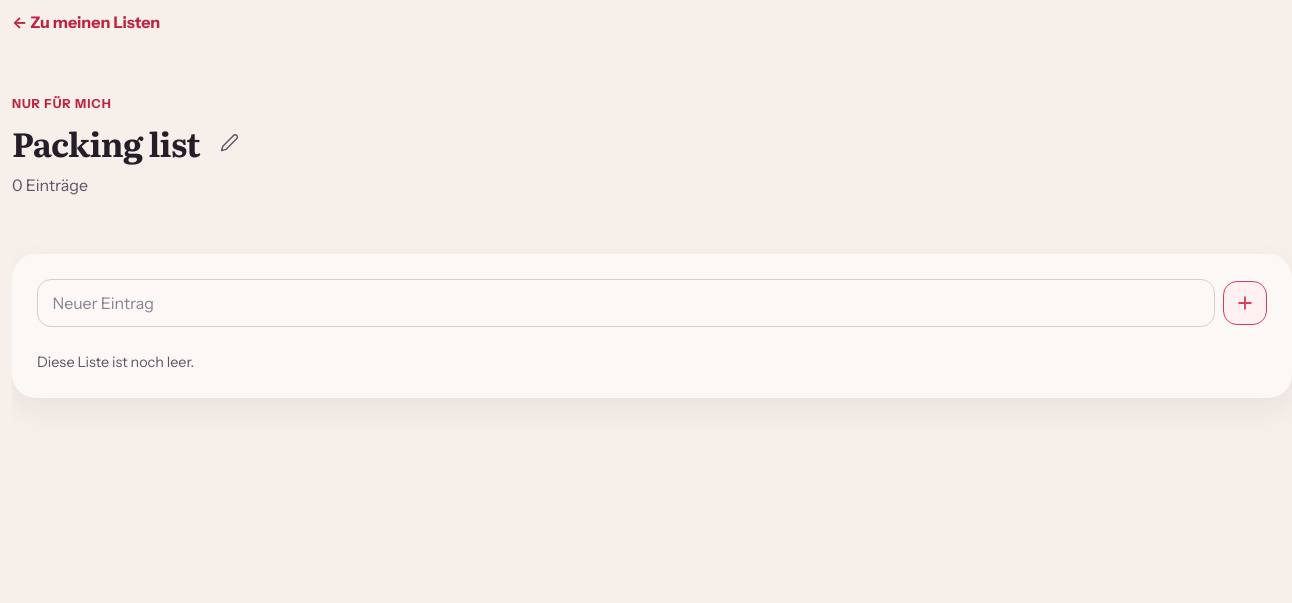
Test case: PrivateCollectionsPage › resets isEditing and confirmDelete on successful title update
Click the button named "Bearbeiten": [230, 143] box [208,121,252,165]
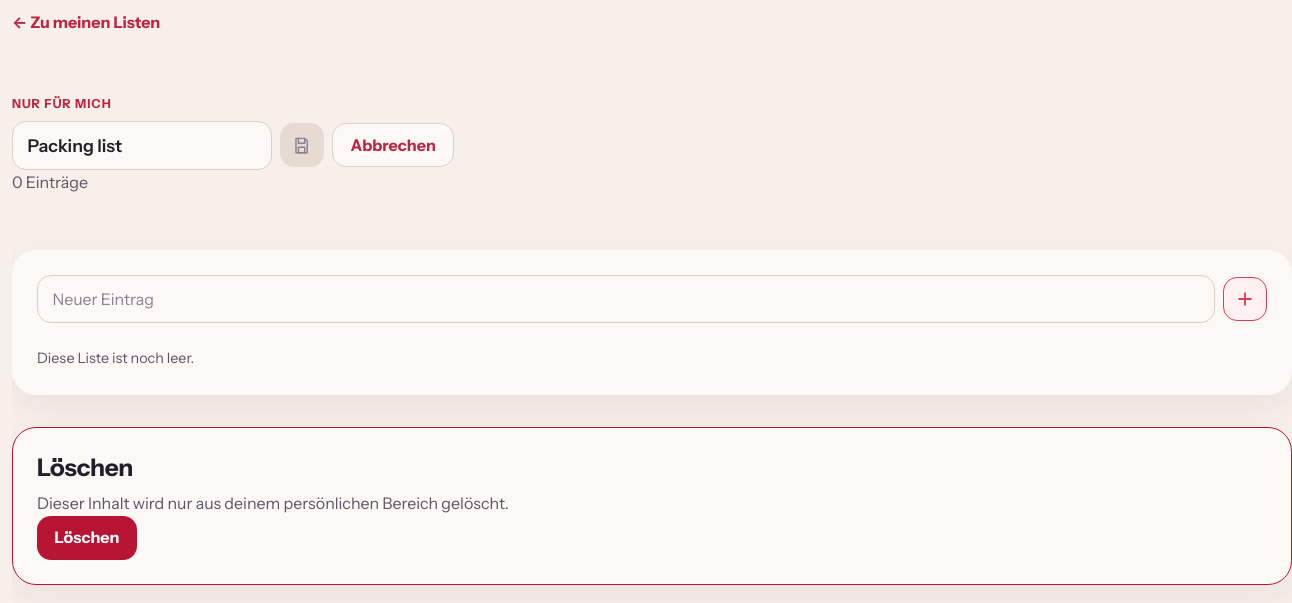
Now the field named "Titel" is shown, box [12,121,272,170]
Click the button "Löschen": [87, 538] box [37,516,137,560]
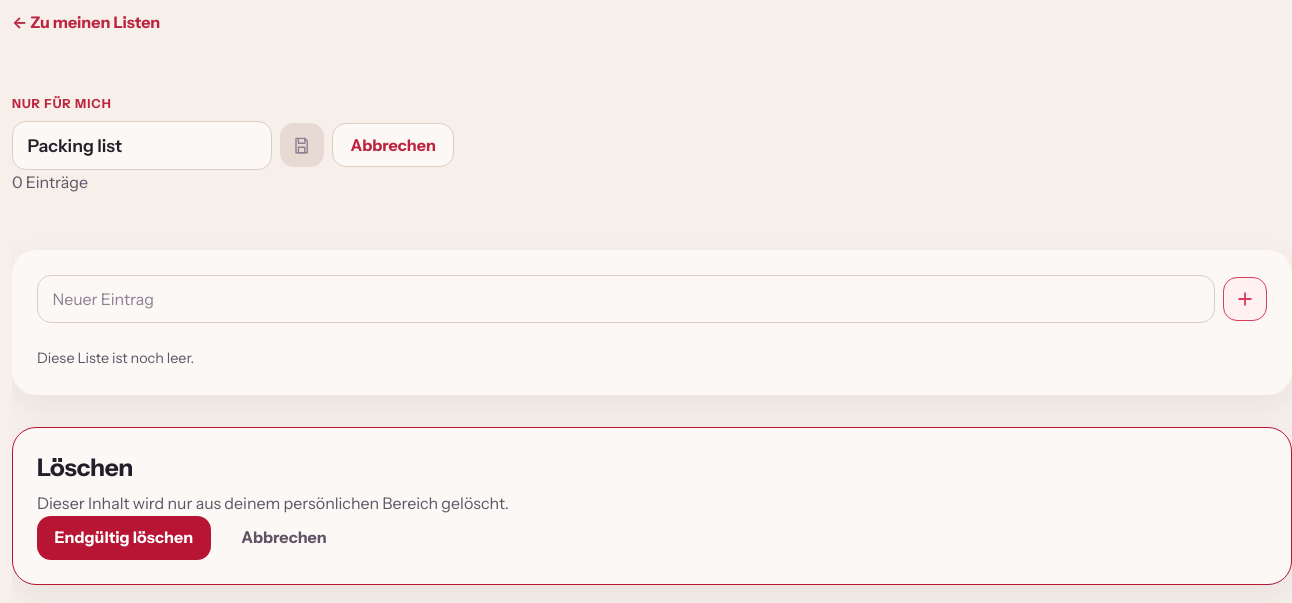
Now the button "Endgültig löschen" is shown, box [37,516,211,560]
Replace the text in the field named "Titel" with "New Private Packing list": [142, 145] box [12,121,272,170]
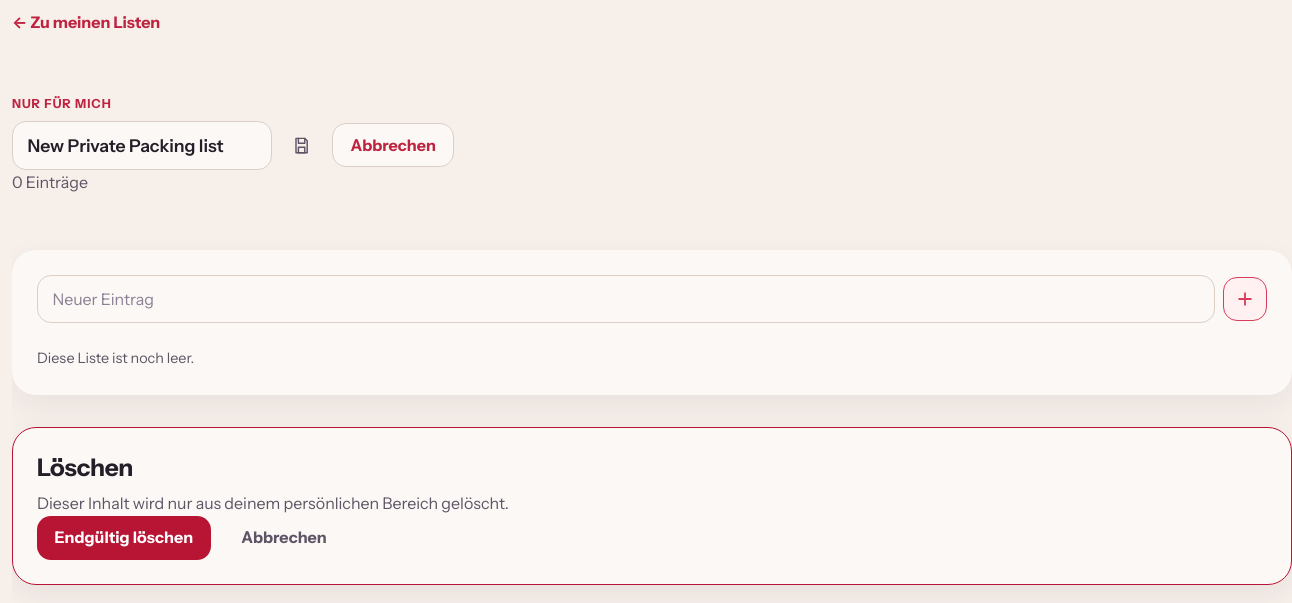
Click the button named "änderungen speichern": [302, 145] box [280,123,324,167]
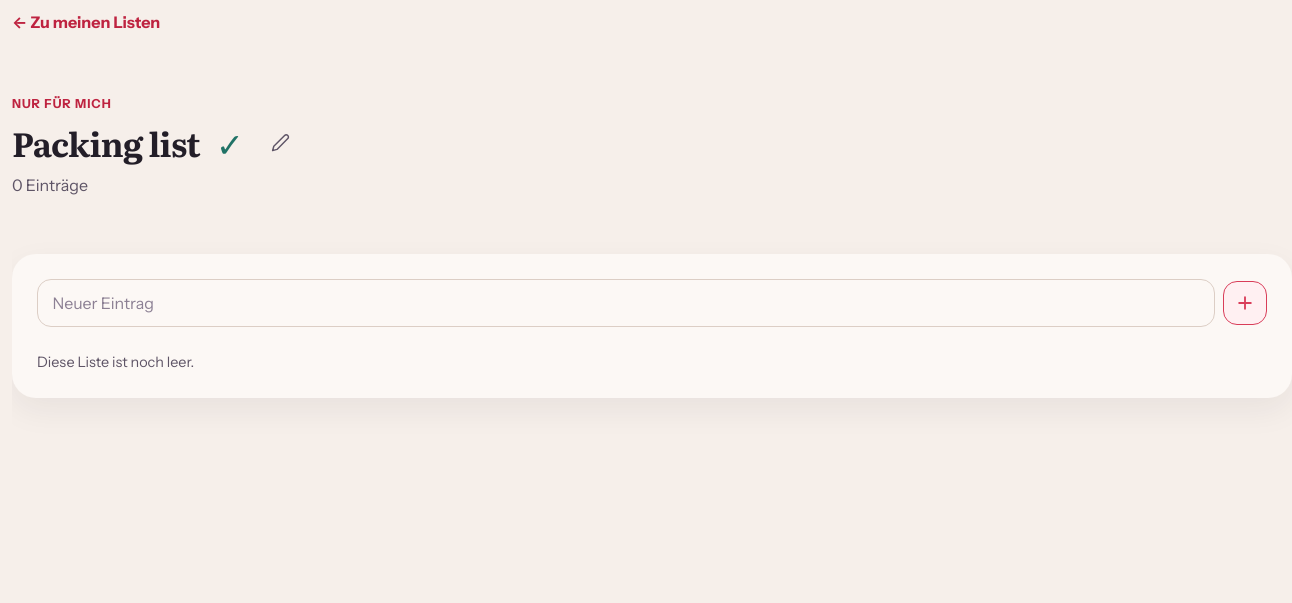
Now the button named "Bearbeiten" is shown, box [259,121,303,165]
Now the button "Endgültig löschen" is gone
